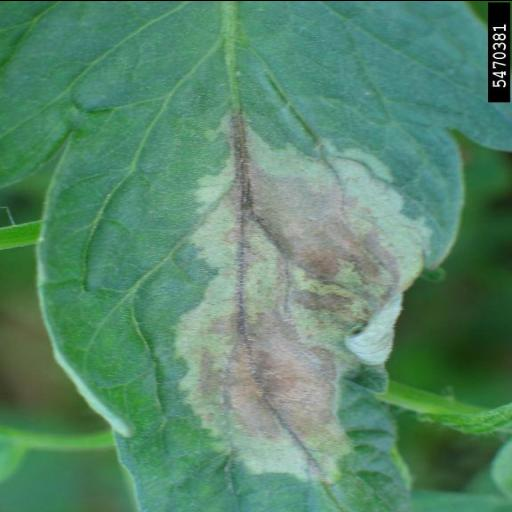Late Blight: (32, 0, 473, 508)
